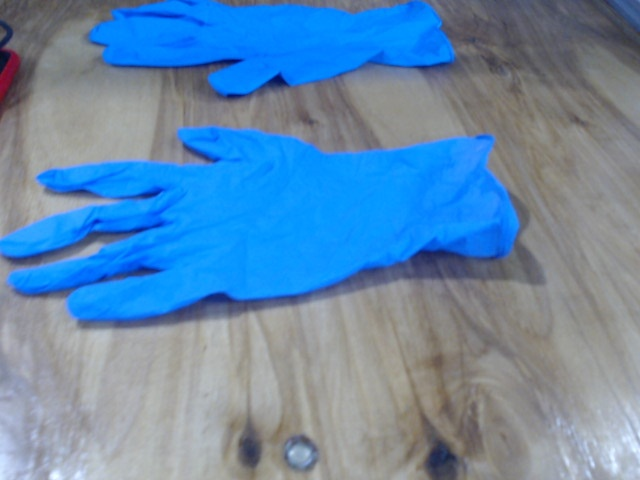medical_glove: (2, 125, 519, 319), (88, 1, 455, 95)
